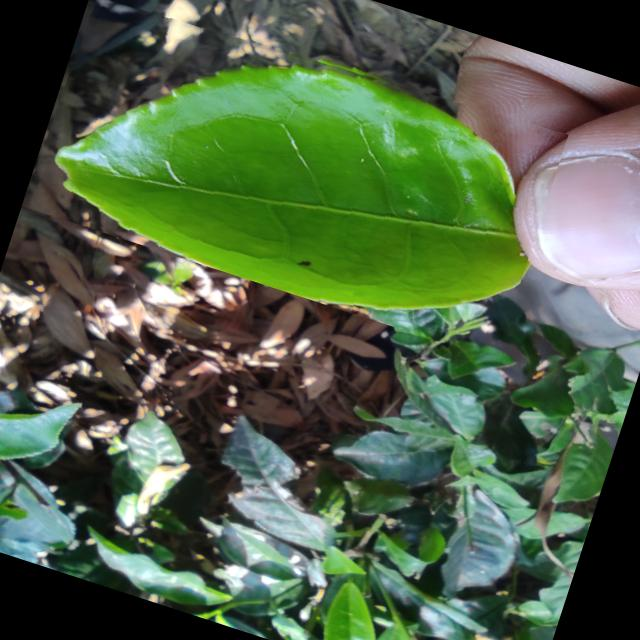Category B(2-4 days): (20, 0, 567, 359)
